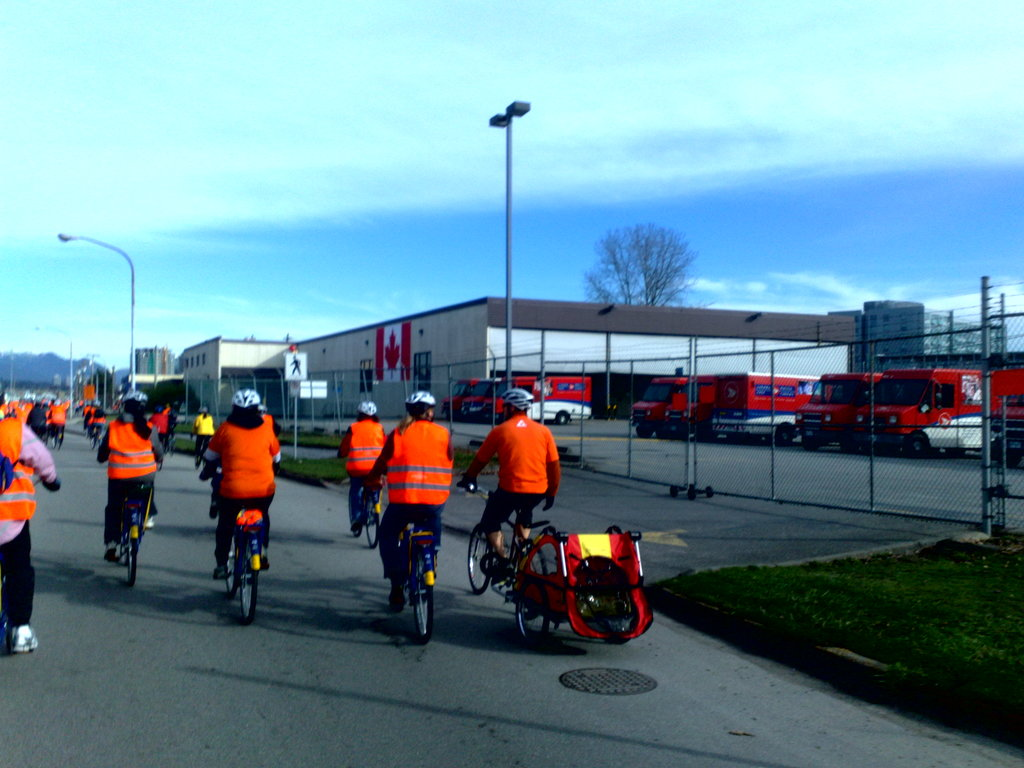Bike_away: (464, 483, 653, 647), (370, 510, 445, 647), (208, 498, 277, 623), (103, 484, 156, 588)
